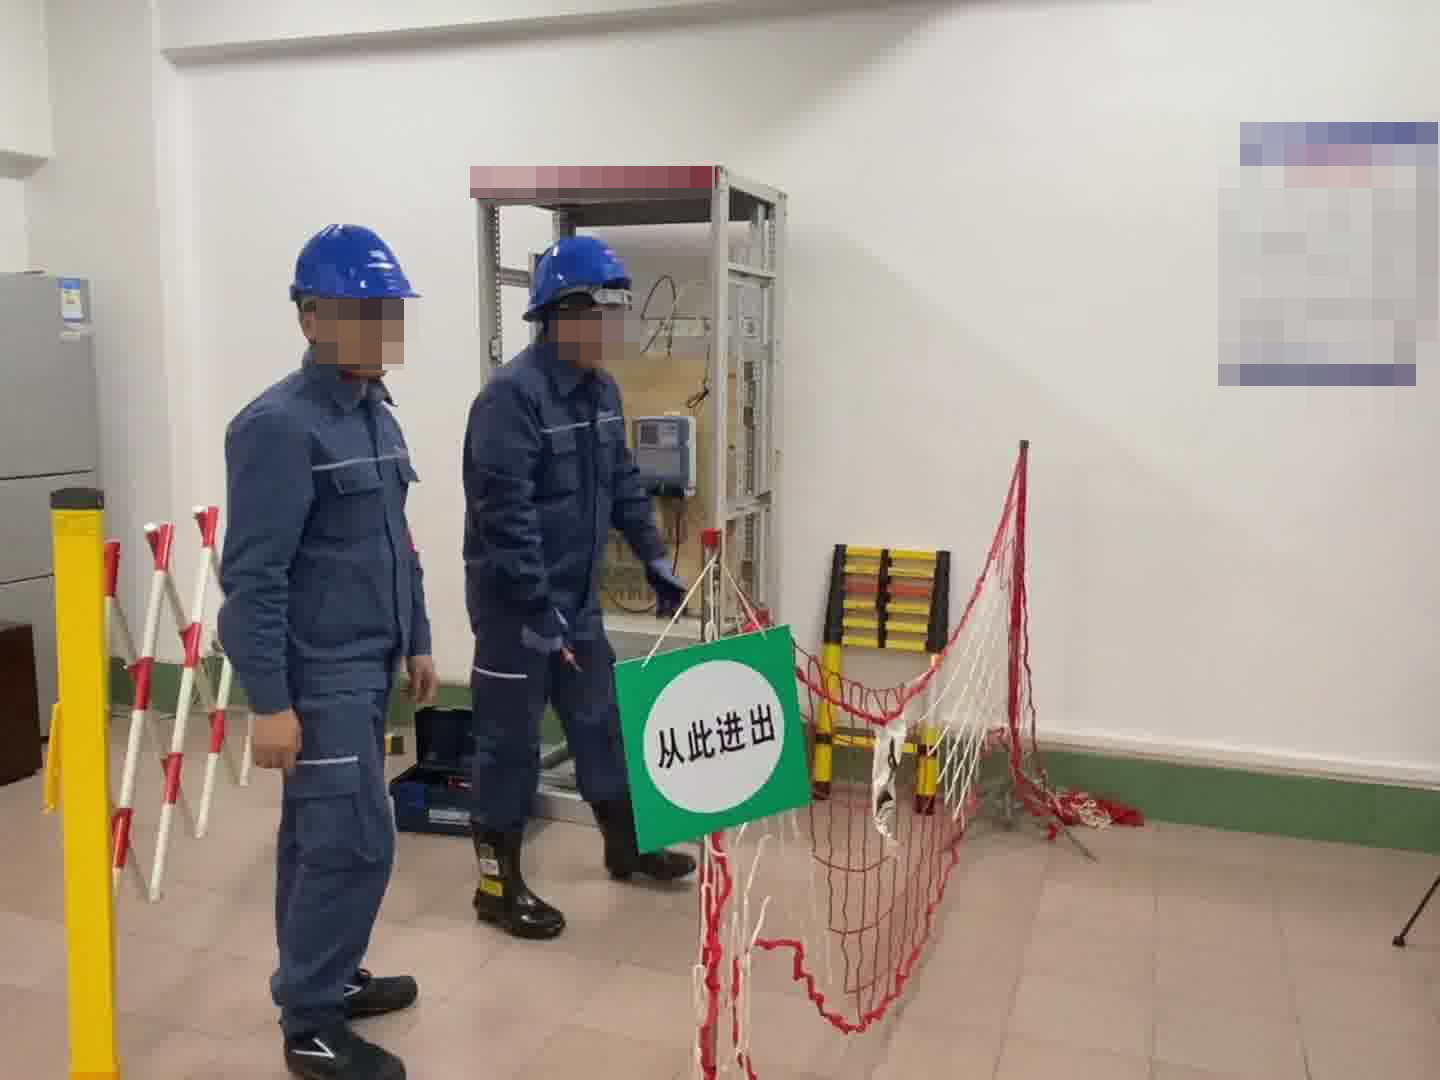downsuit: (264, 676, 407, 1020), (467, 616, 631, 828)
fhalt: (521, 236, 638, 365)
glove: (647, 555, 697, 623), (516, 606, 569, 654)
goggles: (575, 303, 638, 349)
halt: (287, 223, 417, 373)
hand: (244, 703, 304, 772), (400, 650, 440, 711)
inear: (300, 294, 339, 360)
intosign: (609, 617, 814, 861)
noear: (552, 301, 617, 363)
person: (208, 215, 440, 1080), (454, 231, 702, 940)
shoe: (471, 796, 692, 936)
upsuit: (217, 359, 435, 687), (457, 343, 669, 616)
